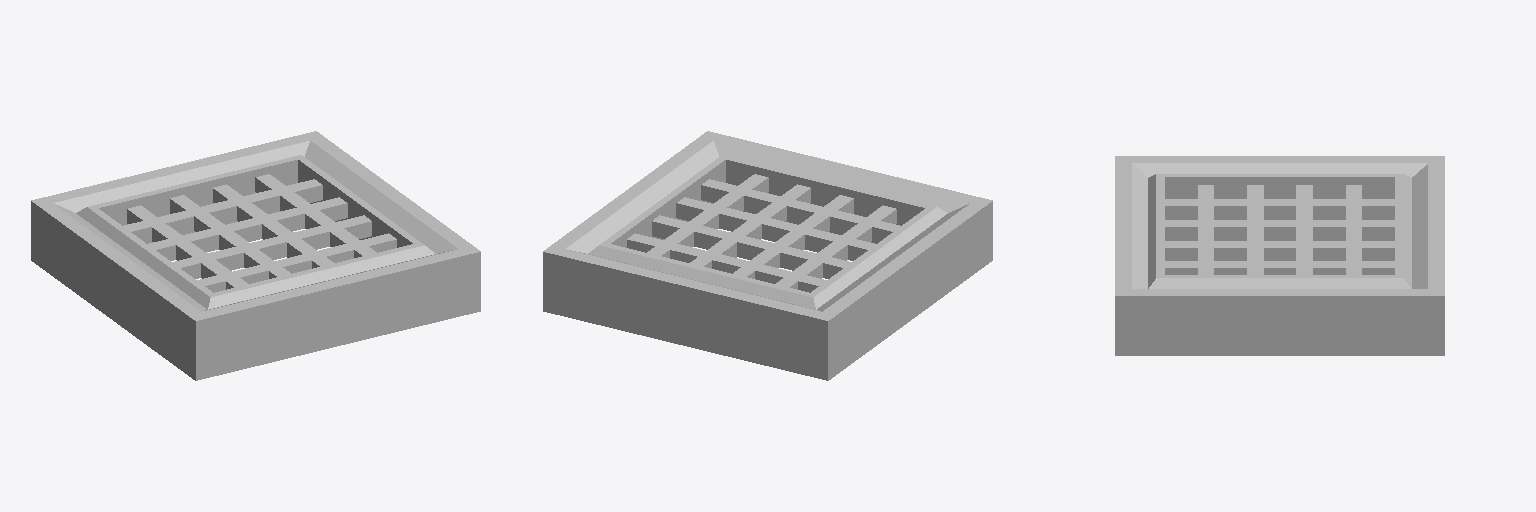
Rendered from struct_floor_grate_square.obj.
The picture shows the model from 3 angles: view 1: azimuth 30°, elevation 25°; view 2: azimuth 150°, elevation 25°; view 3: azimuth 270°, elevation 25°; orthographic projection.
Parts seen in each view (by area): view 1: struct_floor_grate_square, struct_floor_grate_square_2; view 2: struct_floor_grate_square, struct_floor_grate_square_2; view 3: struct_floor_grate_square, struct_floor_grate_square_2.
Boxes of the visible parts, x1=… form: struct_floor_grate_square: x1=31, y1=131, x2=480, y2=380; struct_floor_grate_square_2: x1=76, y1=155, x2=435, y2=309; struct_floor_grate_square: x1=543, y1=131, x2=992, y2=380; struct_floor_grate_square_2: x1=588, y1=155, x2=947, y2=309; struct_floor_grate_square: x1=1115, y1=156, x2=1444, y2=355; struct_floor_grate_square_2: x1=1148, y1=174, x2=1411, y2=288.
Bounding box in the file's own units: 1 × 0.2 × 1.